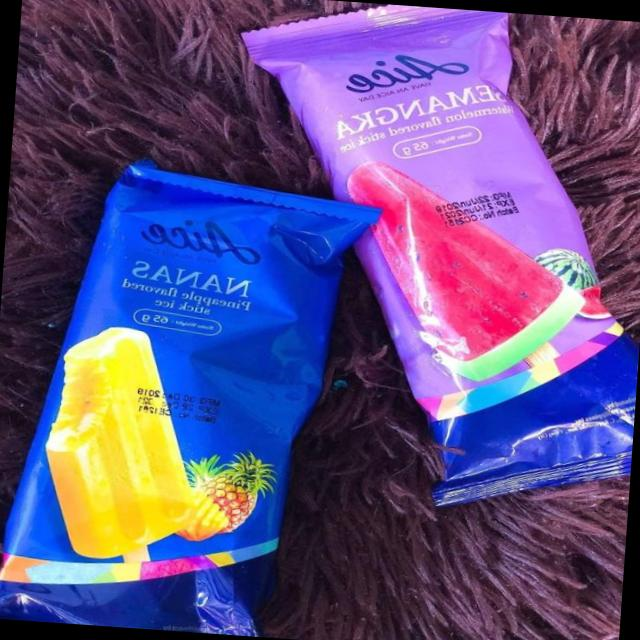KemasanPlastik: (207, 0, 640, 517), (0, 144, 387, 640)
